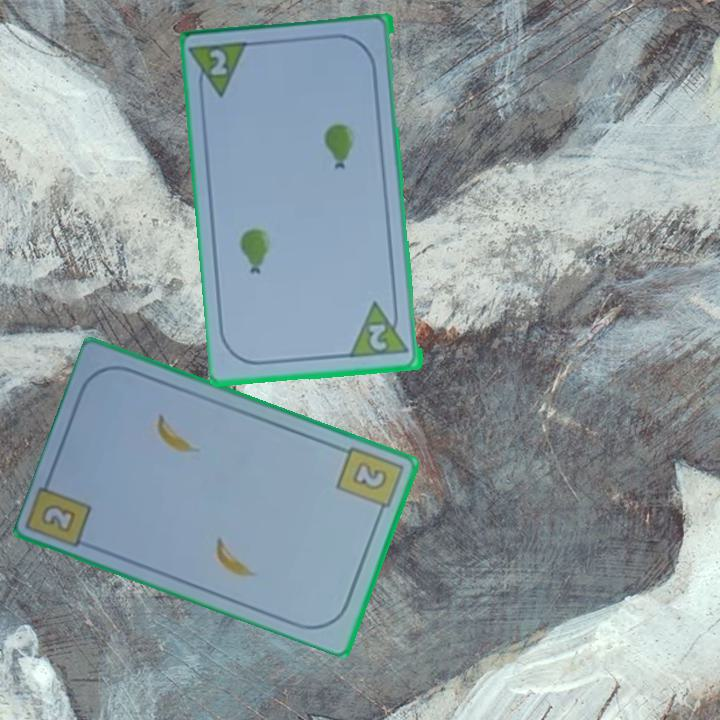2b: (332, 442, 406, 521), (38, 500, 80, 536)
2p: (206, 46, 231, 79), (366, 321, 390, 354)
